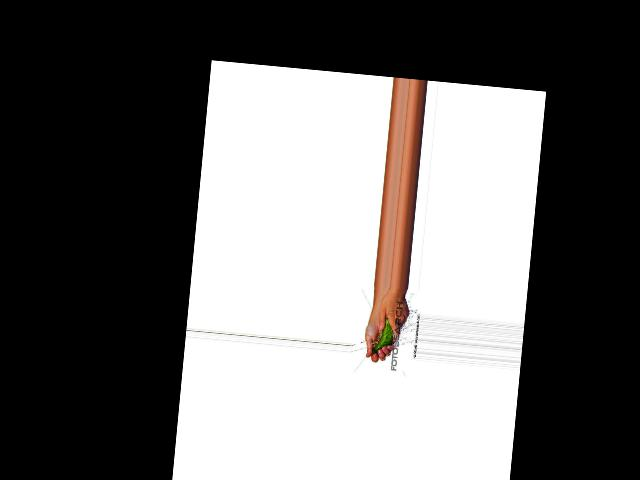cucumber: (372, 315, 396, 356)
